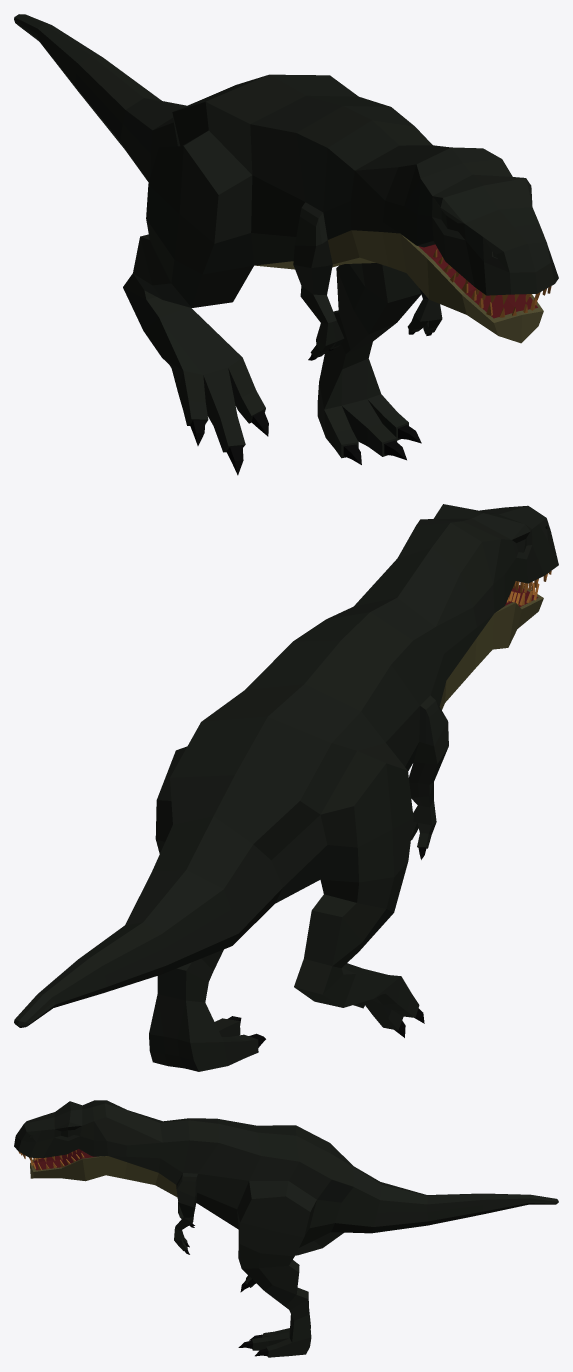
Rendered from Trex_000009.obj.
3 renders of one model, top to bottom at view 1: azimuth 30°, elevation 25°; view 2: azimuth 150°, elevation 25°; view 3: azimuth 270°, elevation 25°, orthographic. The views are drawn at different scales.
Parts seen in each view (by area): view 1: Trex_Cylinder; view 2: Trex_Cylinder; view 3: Trex_Cylinder.
Boxes of the visible parts, x1,y1,x2,y2 form: Trex_Cylinder: (14, 14, 558, 475); Trex_Cylinder: (14, 504, 558, 1071); Trex_Cylinder: (14, 1100, 558, 1357).
Size of the model in its own units: 7.95 by 14.36 by 31.39.
